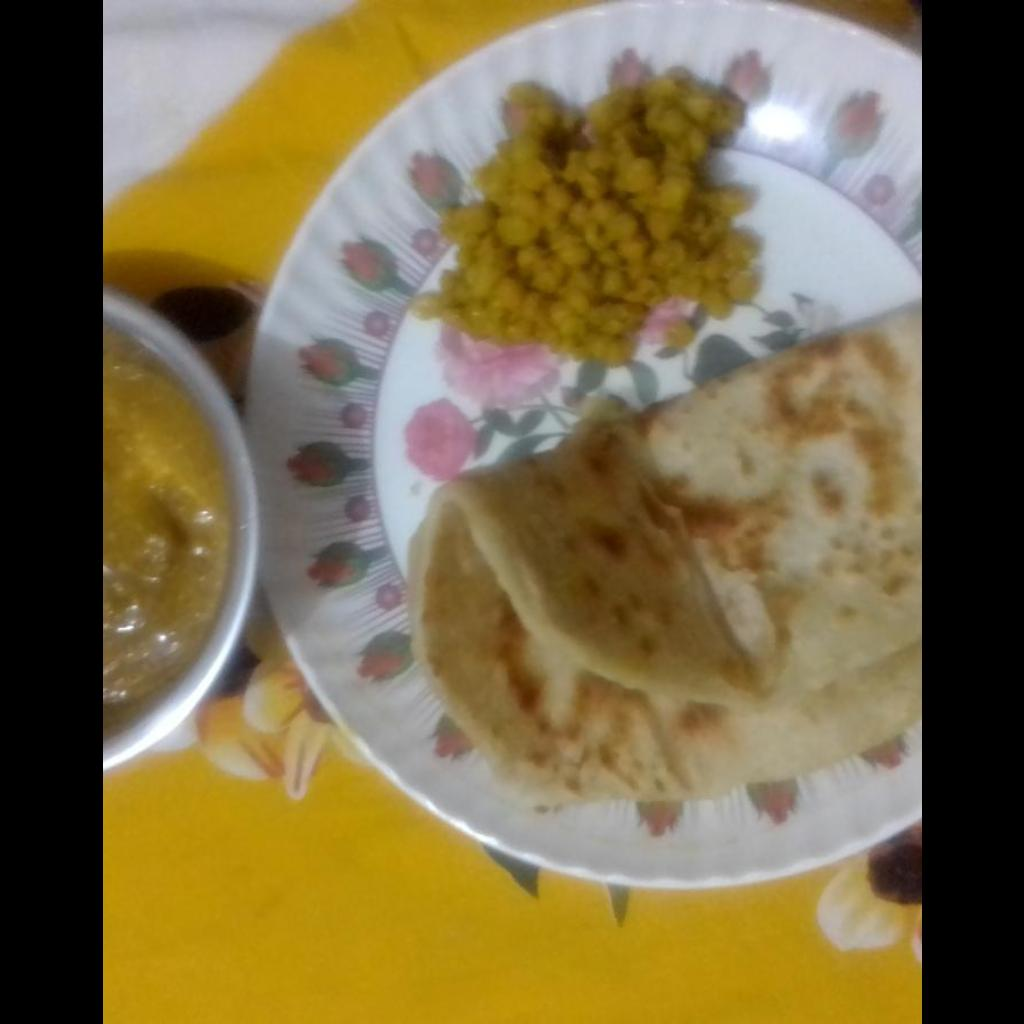burinda: (397, 70, 754, 370)
daal: (102, 288, 258, 770)
ruti: (415, 293, 920, 809)
